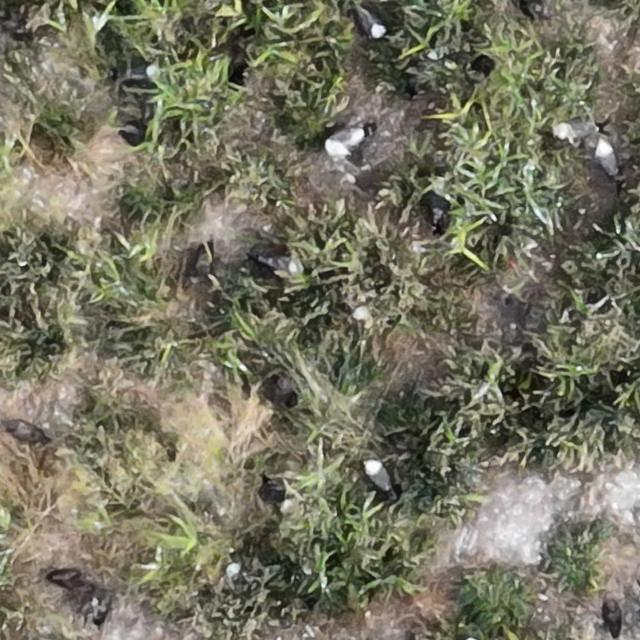umineko: (558, 118, 599, 138), (366, 462, 390, 494), (328, 127, 363, 148), (359, 10, 386, 37), (599, 144, 618, 176), (125, 62, 156, 80)
